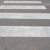zebra: (1, 1, 50, 37)
